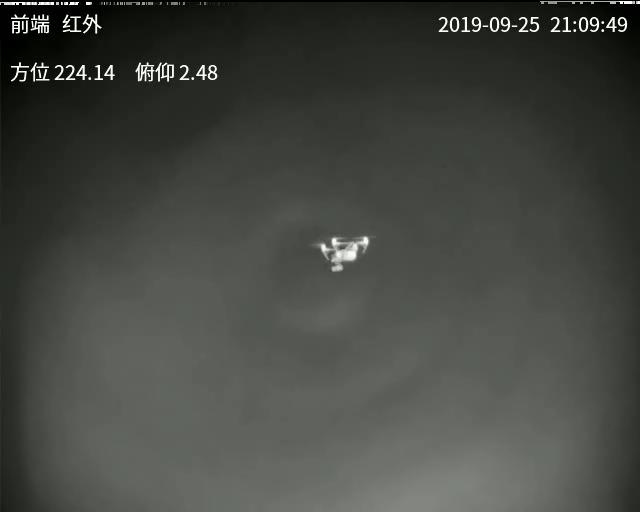uav: (316, 234, 369, 276)
